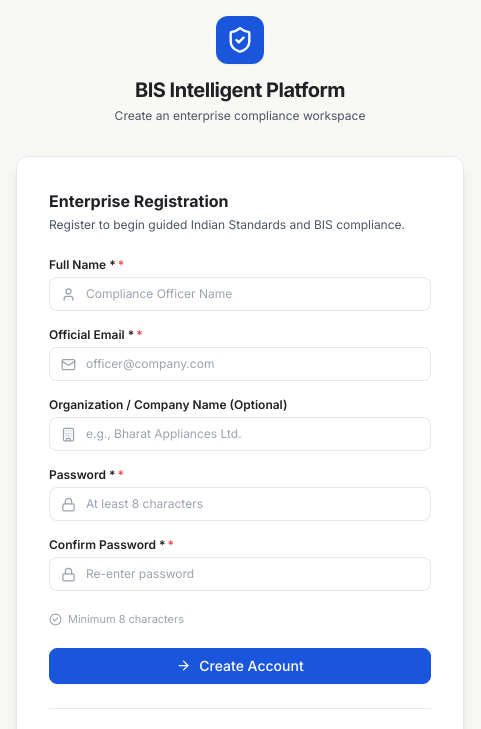
it: Phase 2 — Frontend Authentication Components › shows password mismatch warning when confirming wrong password in RegisterPage
Type "SecurePass123" into the password field labelled "Password **" at [240, 504], box [49,487,431,521]
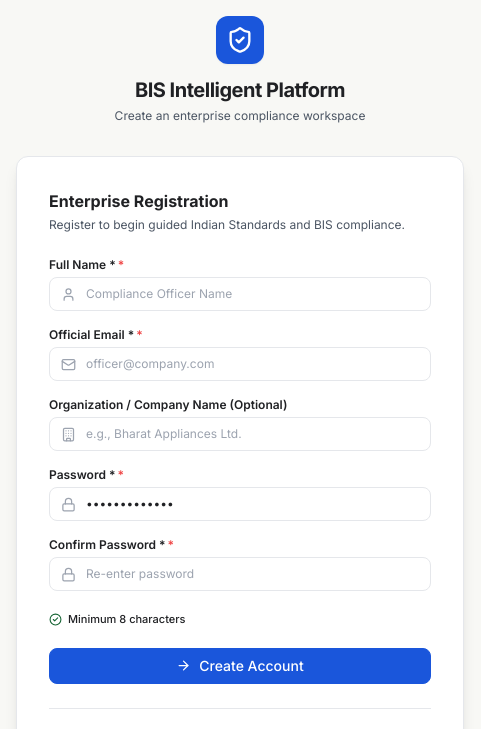
Type "DifferentPass" into the password field labelled "Confirm Password **" at [240, 574], box [49,557,431,591]
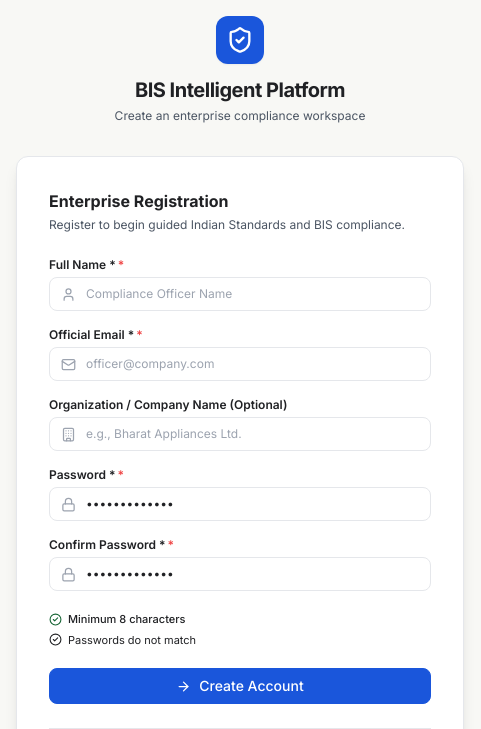
Expected: the text "Passwords do not match" is shown, [68,632,196,648]
